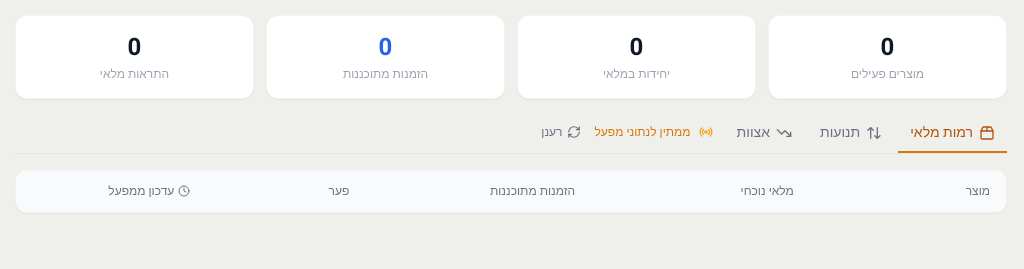
Test: InventoryScreen › shows movements table when movements data is provided
# Switch to Movements tab
Click the button "תנועות".
click(851, 134)  # box [808,115,894,153]
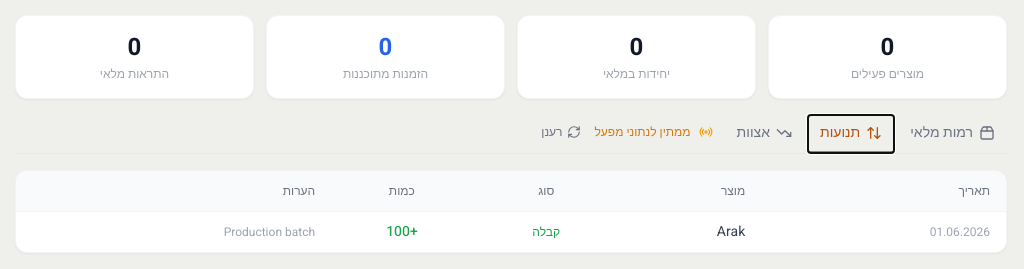
Expected: the text "Arak" is shown, [616,212,757,252]
Expected: the text "קבלה" is shown, [532,223,560,241]
Expected: the text "+100" is shown, [386,221,418,242]
